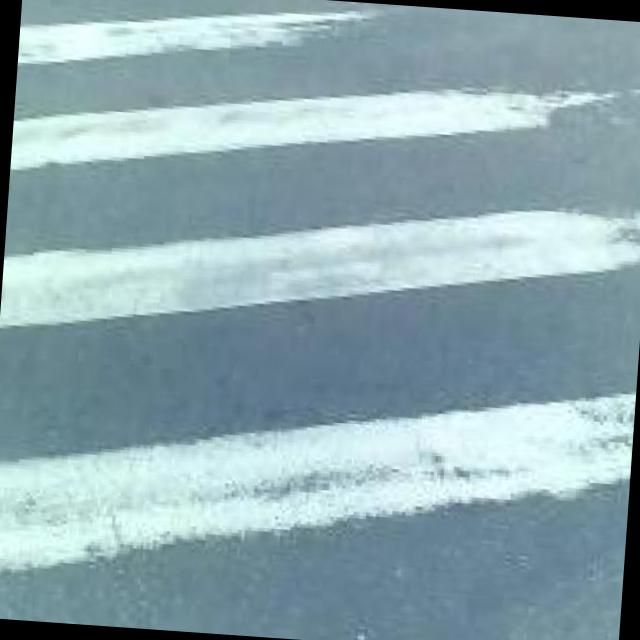zebra: (0, 11, 640, 640)
